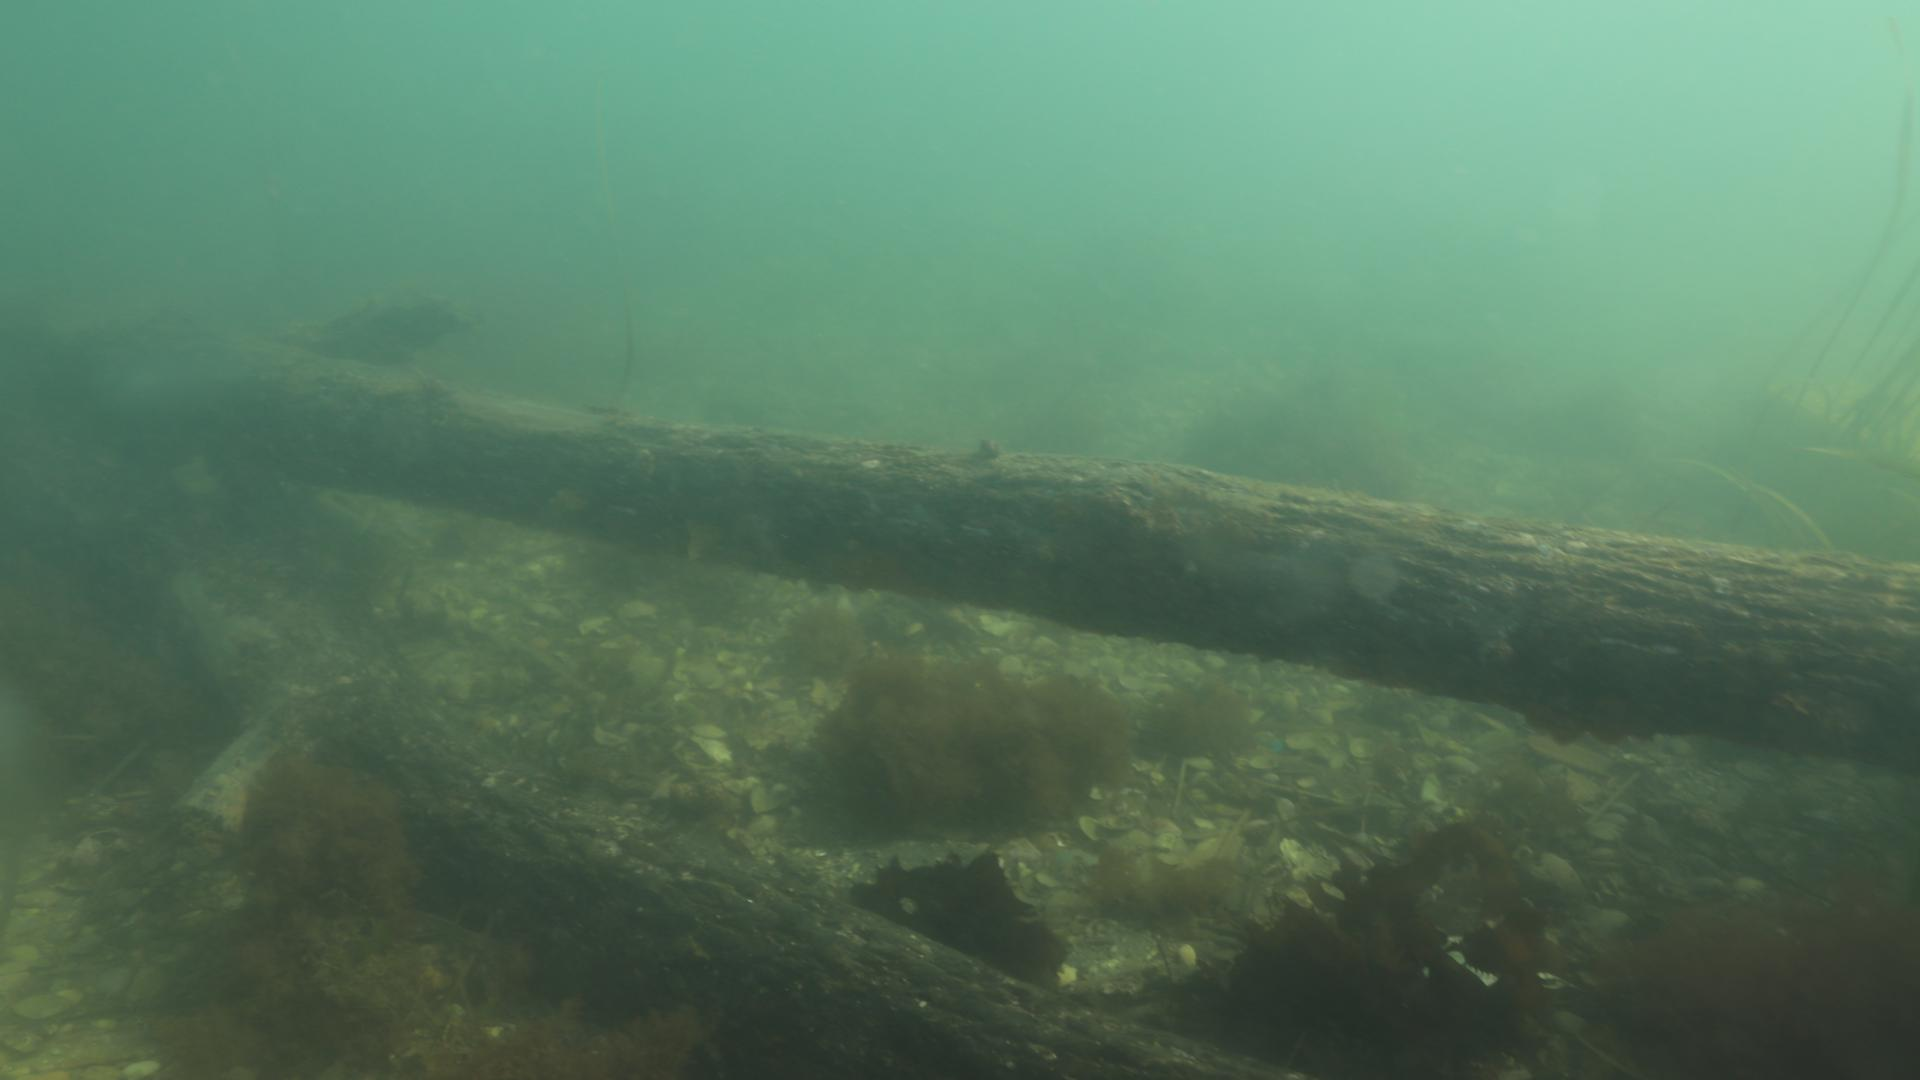wood: (91, 298, 1920, 764)
